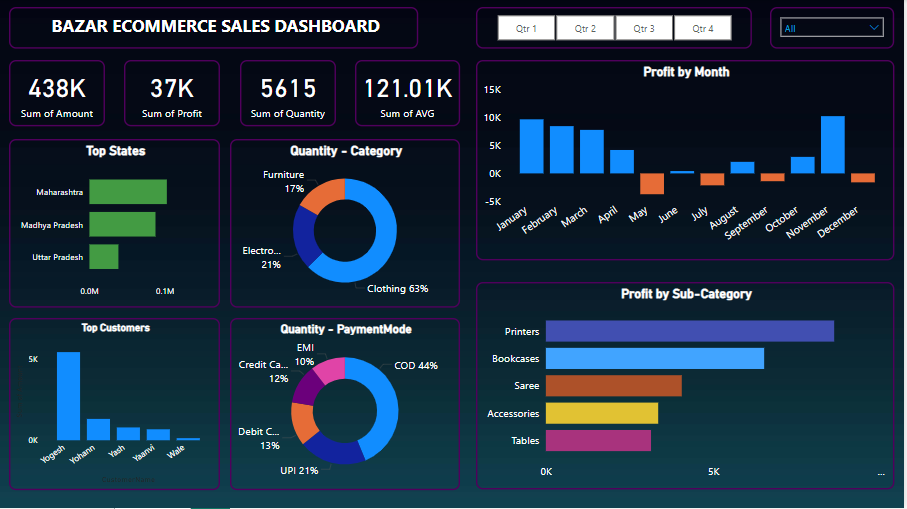

The dashboard page shown, as its layout file describes it:
{"tool":"powerbi","page":{"name":"Page 1","canvas":[1280,720],"ordinal":0},"visuals":[{"type":"textbox","box":[12.9,10,580,58.6],"z":0},{"type":"columnChart","title":"Profit by Month","fields":{"Y":["Details.Profit"],"Category":["Orders.Order Date.Variation.Date Hierarchy.Month"]},"box":[674.3,85.7,592.9,284.3],"z":1000},{"type":"clusteredBarChart","title":"Profit by Sub-Category","fields":{"Category":["Details.Sub-Category"],"Y":["Details.Profit"]},"box":[674.3,400,592.9,294.3],"z":2000},{"type":"donutChart","title":"Quantity - PaymentMode","fields":{"Category":["Details.PaymentMode","Details.Category"],"Y":["Details.Quantity"]},"box":[325.7,450,325.7,244.3],"z":3000},{"type":"donutChart","title":"Quantity - Category","fields":{"Category":["Details.Category"],"Y":["Details.Quantity"]},"box":[325.7,197.1,325.7,238.6],"z":4000},{"type":"card","fields":{"Values":["Details.Amount"]},"box":[12.9,85.7,135.7,94.3],"z":5000},{"type":"card","fields":{"Values":["Details.Profit"]},"box":[175.7,85.7,135.7,94.3],"z":6000},{"type":"card","fields":{"Values":["Details.Quantity"]},"box":[340,85.7,135.7,94.3],"z":7000},{"type":"card","fields":{"Values":["Details.AVG"]},"box":[502.9,85.7,148.6,94.3],"z":8000},{"type":"clusteredBarChart","title":"Top States","fields":{"Category":["Orders.State"],"Y":["Details.Amount"]},"box":[12.9,197.1,298.6,238.6],"z":9000},{"type":"columnChart","title":"Top Customers","fields":{"Category":["Orders.CustomerName"],"Y":["Details.Amount"]},"box":[12.9,450,298.6,244.3],"z":10000},{"type":"slicer","fields":{"Values":["Orders.Order Date.Variation.Date Hierarchy.Quarter"]},"box":[674.3,10,391.4,58.6],"z":11000},{"type":"slicer","fields":{"Values":["Orders.State"]},"box":[1091.4,10,175.7,58.6],"z":11001}]}

Visuals, with their boxes in screenshot pixels (x1, y1, x2, y2), scaled from the page's 1280x720 canvas onto the 907x509 screenshot:
textbox: 9 7 420 48
"Profit by Month" columnChart: 478 61 898 262
"Profit by Sub-Category" clusteredBarChart: 478 283 898 491
"Quantity - PaymentMode" donutChart: 231 318 462 491
"Quantity - Category" donutChart: 231 139 462 308
card - Details.Amount: 9 61 105 127
card - Details.Profit: 124 61 221 127
card - Details.Quantity: 241 61 337 127
card - Details.AVG: 356 61 462 127
"Top States" clusteredBarChart: 9 139 221 308
"Top Customers" columnChart: 9 318 221 491
slicer - Orders.Order Date.Variation.Date Hierarchy.Quarter: 478 7 755 48
slicer - Orders.State: 773 7 898 48
